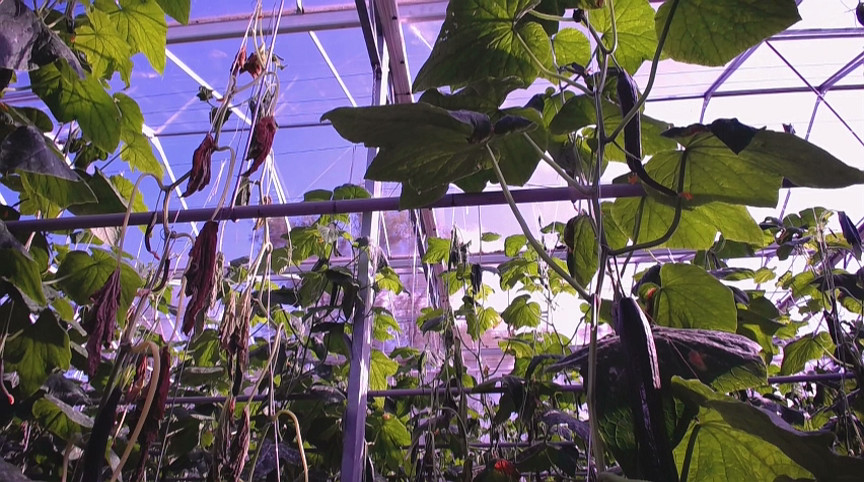cucumber: (619, 297, 675, 481), (616, 69, 679, 197)
